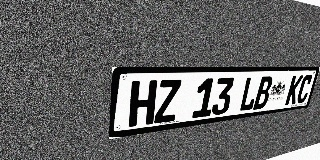1: (192, 78, 217, 118)
3: (211, 77, 235, 116)
B: (253, 76, 274, 110)
C: (295, 75, 314, 104)
H: (128, 80, 158, 127)
K: (285, 75, 304, 105)
L: (238, 77, 260, 112)
Z: (154, 79, 182, 124)
